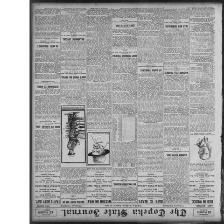news_paper: (30, 0, 224, 223)
